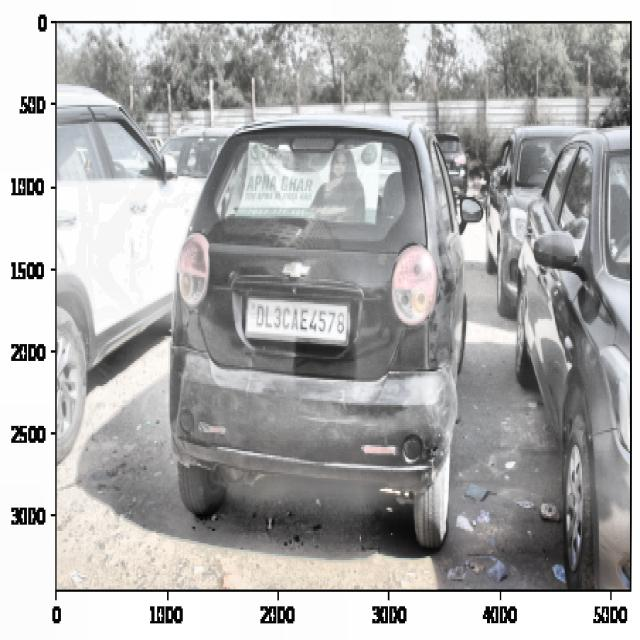license_plate: (251, 298, 351, 344)
